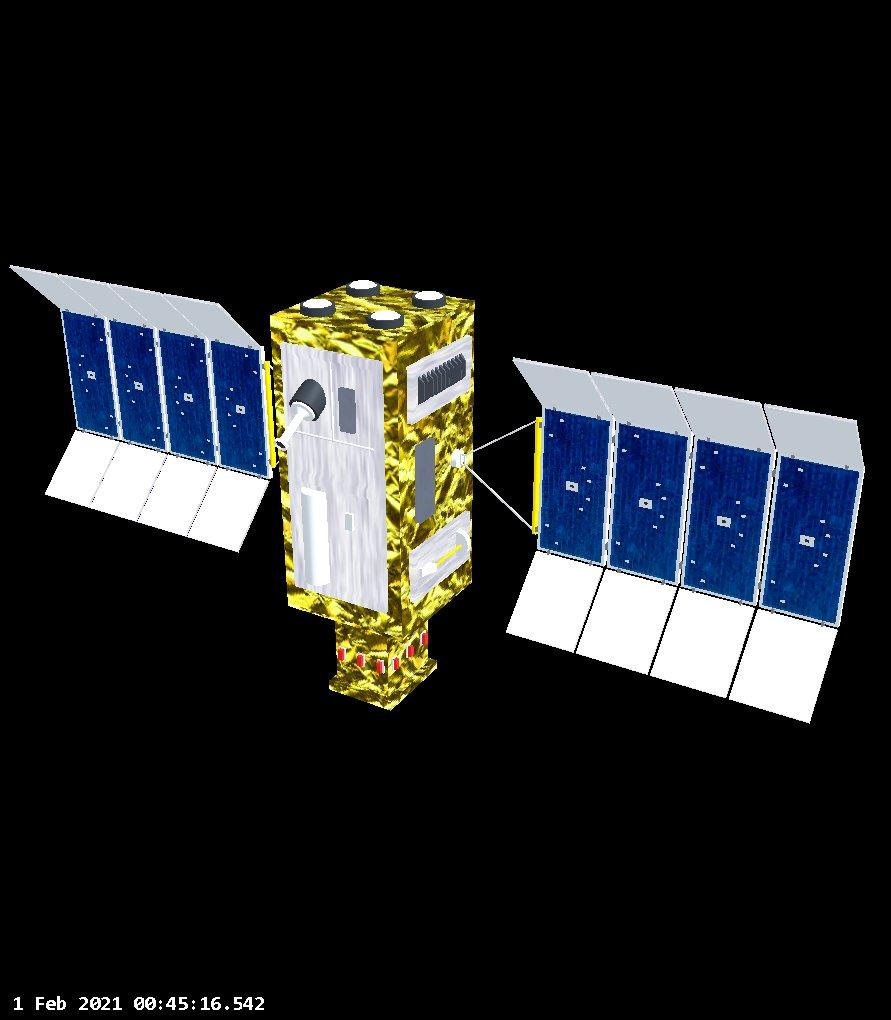antenna: (420, 531, 469, 578), (302, 293, 336, 320), (367, 305, 405, 327), (412, 289, 449, 307), (344, 280, 383, 297)
body: (266, 232, 476, 713)
solar: (477, 340, 870, 727), (5, 252, 280, 560)
